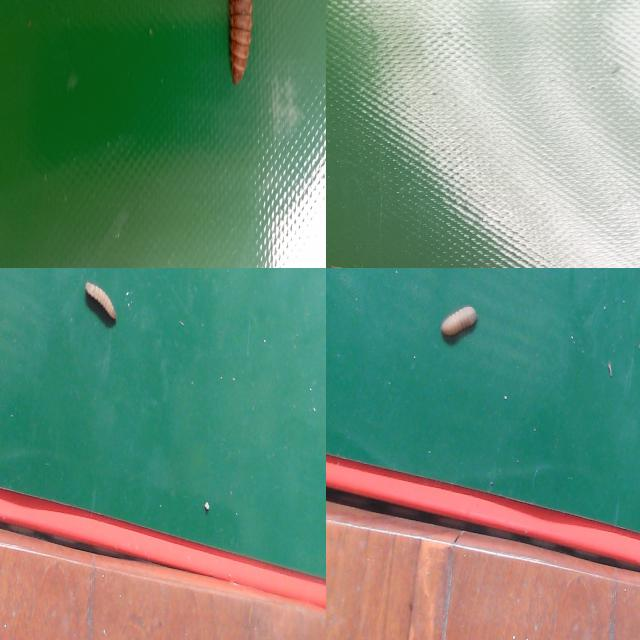Maggot: (226, 0, 252, 85), (440, 305, 480, 347), (83, 282, 118, 329)
